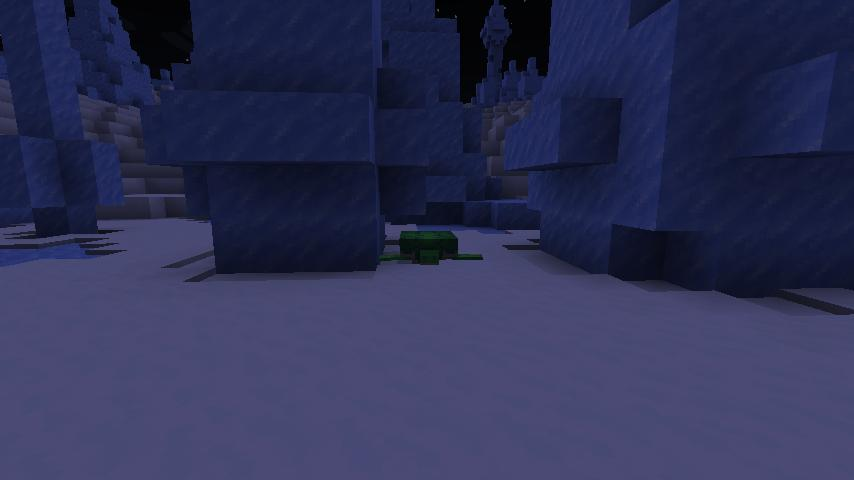turtle: (378, 228, 485, 267)
